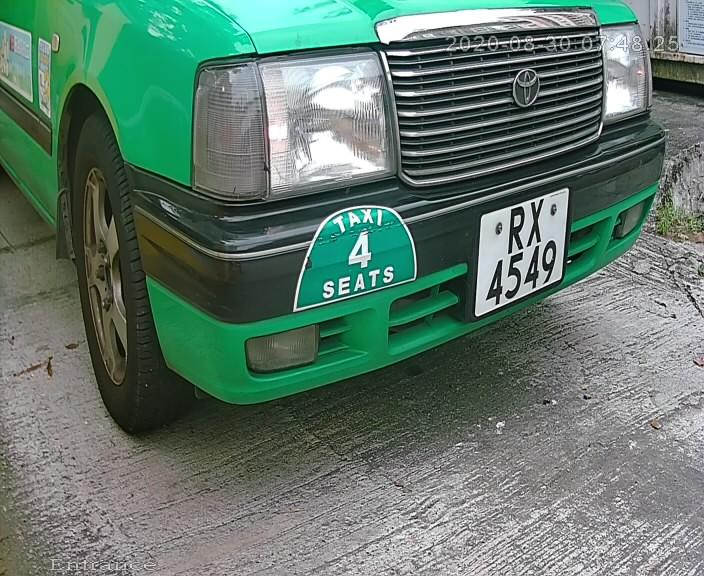License Plate: (463, 183, 573, 317)
